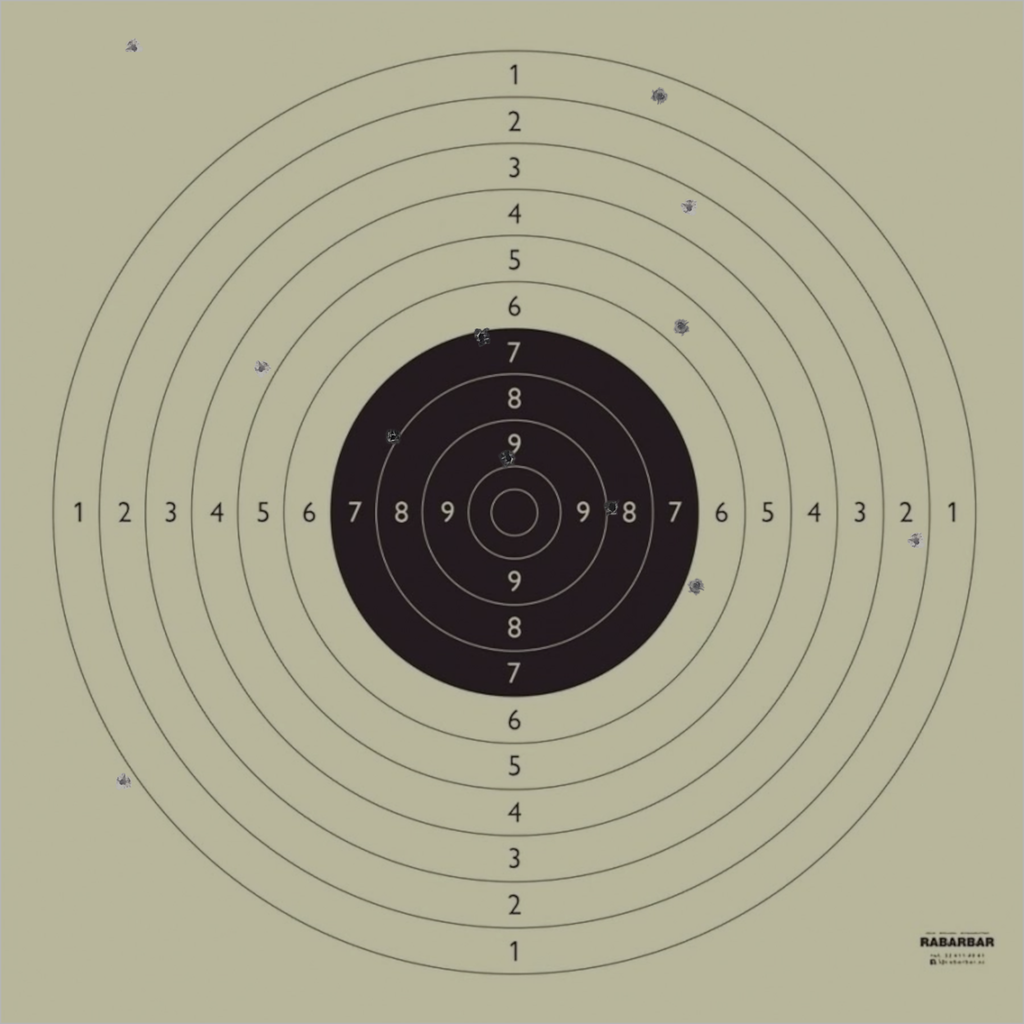0 punktow: (114, 773, 132, 791)
1 punkt: (651, 87, 669, 106)
10 punktow: (499, 450, 518, 468)
2 punkty: (907, 532, 925, 550)
3 punkty: (680, 198, 698, 217)
4 punkty: (252, 359, 271, 378)
5 punktow: (672, 317, 690, 335)
6 punktow: (687, 577, 706, 595)
7 punktow: (473, 328, 491, 347)
8 punktow: (383, 428, 402, 447)
9 punktow: (603, 498, 621, 517)
